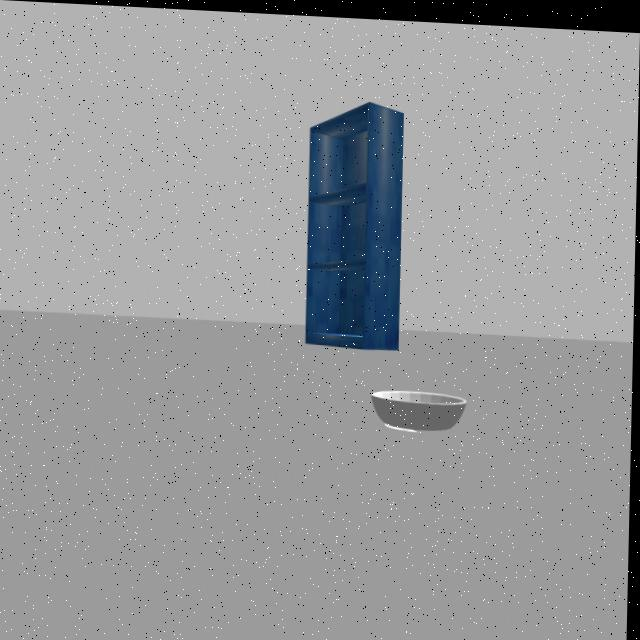bowl: (366, 373, 477, 442)
shelf: (295, 83, 416, 357)
